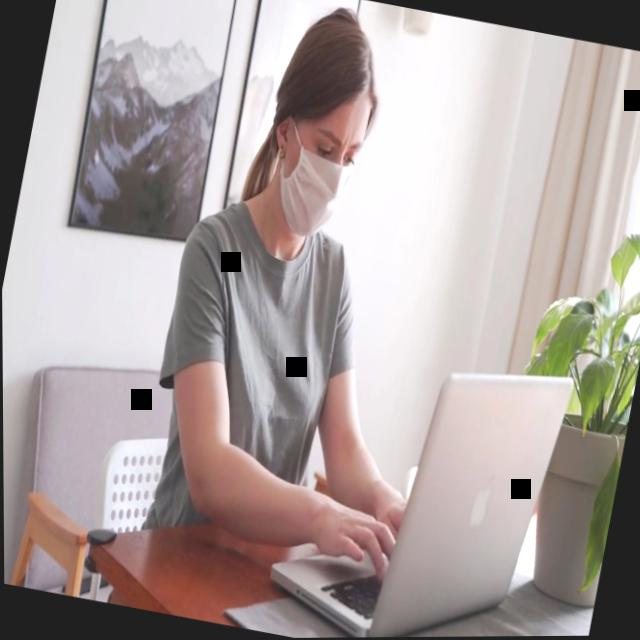Mask: (268, 98, 370, 244)
